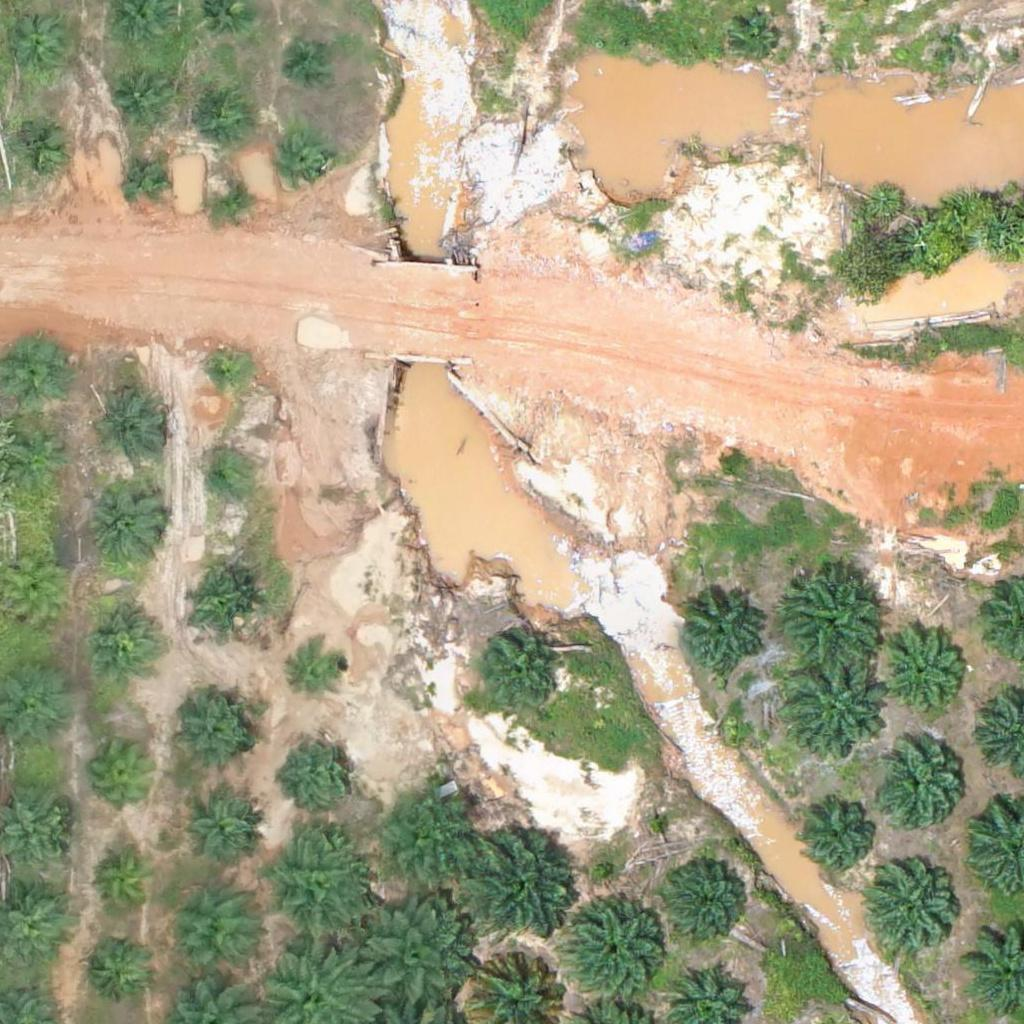Kelapa_Sawit: (457, 817, 582, 943), (346, 897, 471, 1022), (371, 780, 483, 894), (560, 896, 672, 1010), (261, 832, 373, 945), (786, 659, 886, 760), (782, 566, 882, 667), (160, 888, 260, 988), (174, 693, 262, 781), (878, 631, 966, 719), (875, 744, 963, 832), (867, 867, 955, 955), (677, 591, 765, 679), (178, 790, 265, 878), (476, 632, 563, 720), (795, 791, 882, 879), (664, 856, 751, 944), (91, 387, 166, 463), (182, 568, 257, 644), (80, 932, 155, 1008), (86, 844, 161, 920), (284, 731, 359, 807), (91, 484, 166, 560), (83, 602, 158, 677), (89, 735, 164, 810), (4, 337, 67, 400), (195, 83, 258, 146), (109, 68, 172, 131), (10, 433, 72, 496), (5, 20, 67, 83), (10, 118, 72, 181), (289, 640, 351, 703), (122, 153, 172, 204), (208, 174, 258, 225), (279, 140, 329, 190), (289, 35, 339, 85), (201, 348, 251, 398), (197, 455, 247, 505), (731, 18, 781, 68), (948, 33, 973, 58)
